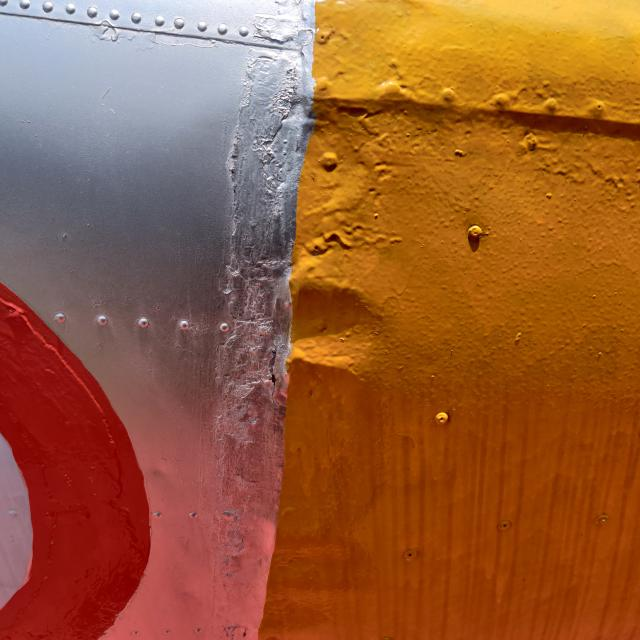dent: (260, 243, 410, 403)
